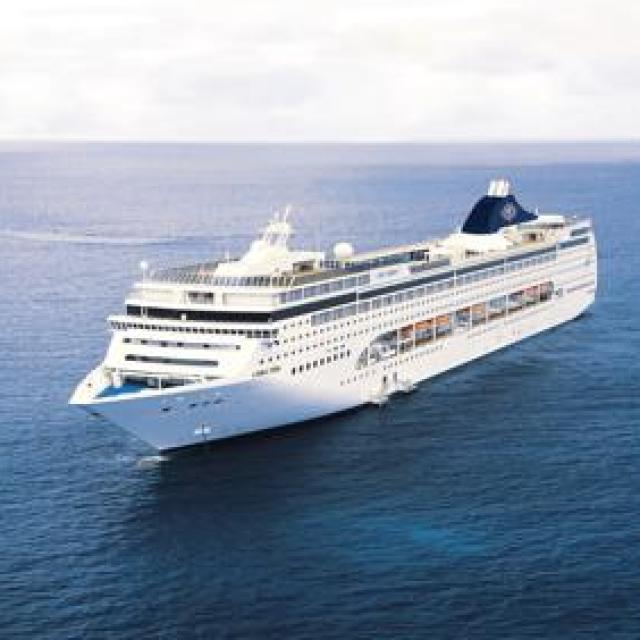passenger ship: (68, 172, 603, 451)
